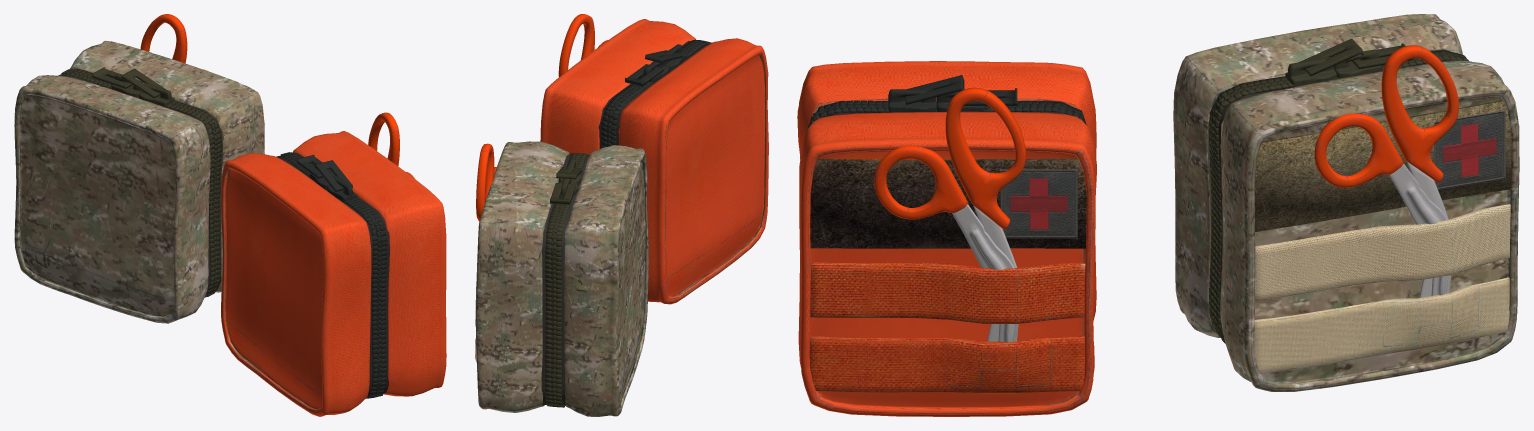
File: first_aid_kit.glb
3 renders of one model, left to right at view 1: azimuth 30°, elevation 25°; view 2: azimuth 150°, elevation 25°; view 3: azimuth 270°, elevation 25°, orthographic. The views are drawn at different scales.
Parts seen in each view (by area): view 1: medbag, medbag.001, scizors.001, scizors; view 2: medbag.001, medbag, scizors, scizors.001; view 3: medbag.001, medbag, scizors, scizors.001, patch, patch.001.
Part boxes in pixels (box(x1,y1,x2,y2)): medbag: box(220, 131, 446, 416); medbag.001: box(14, 40, 264, 323); scizors.001: box(140, 14, 207, 70); scizors: box(368, 112, 414, 178); medbag.001: box(475, 141, 648, 416); medbag: box(540, 19, 768, 304); scizors: box(558, 14, 607, 76); scizors.001: box(476, 143, 496, 221); medbag.001: box(1173, 14, 1519, 391); medbag: box(797, 61, 1096, 416); scizors: box(874, 87, 1026, 342); scizors.001: box(1314, 45, 1458, 297); patch: box(1000, 169, 1077, 238); patch.001: box(1434, 110, 1505, 189).
Bounding box in the file's own units: 4.49 × 4.85 × 9.52.
Materials: 4 (4 with a texture image).
